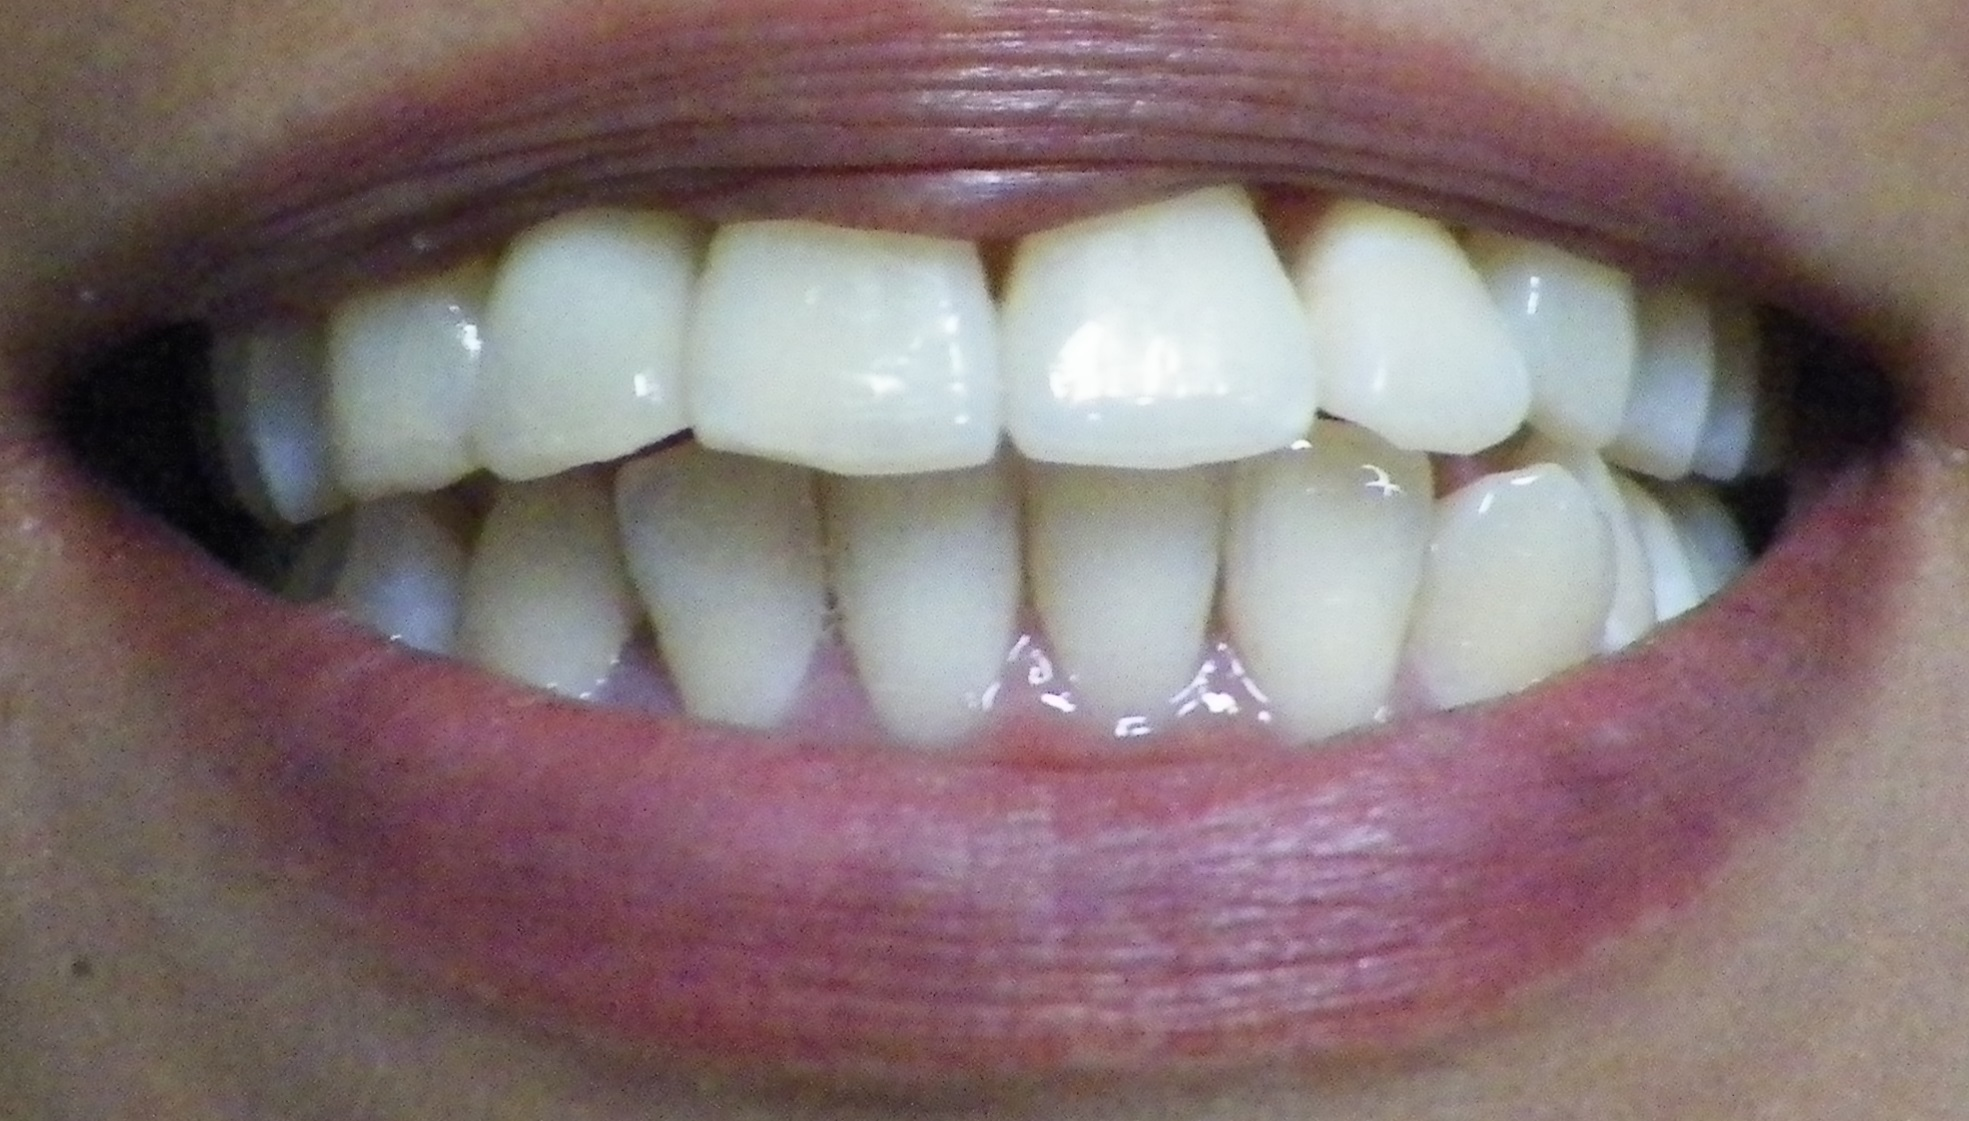boca: (253, 203, 1780, 723)
